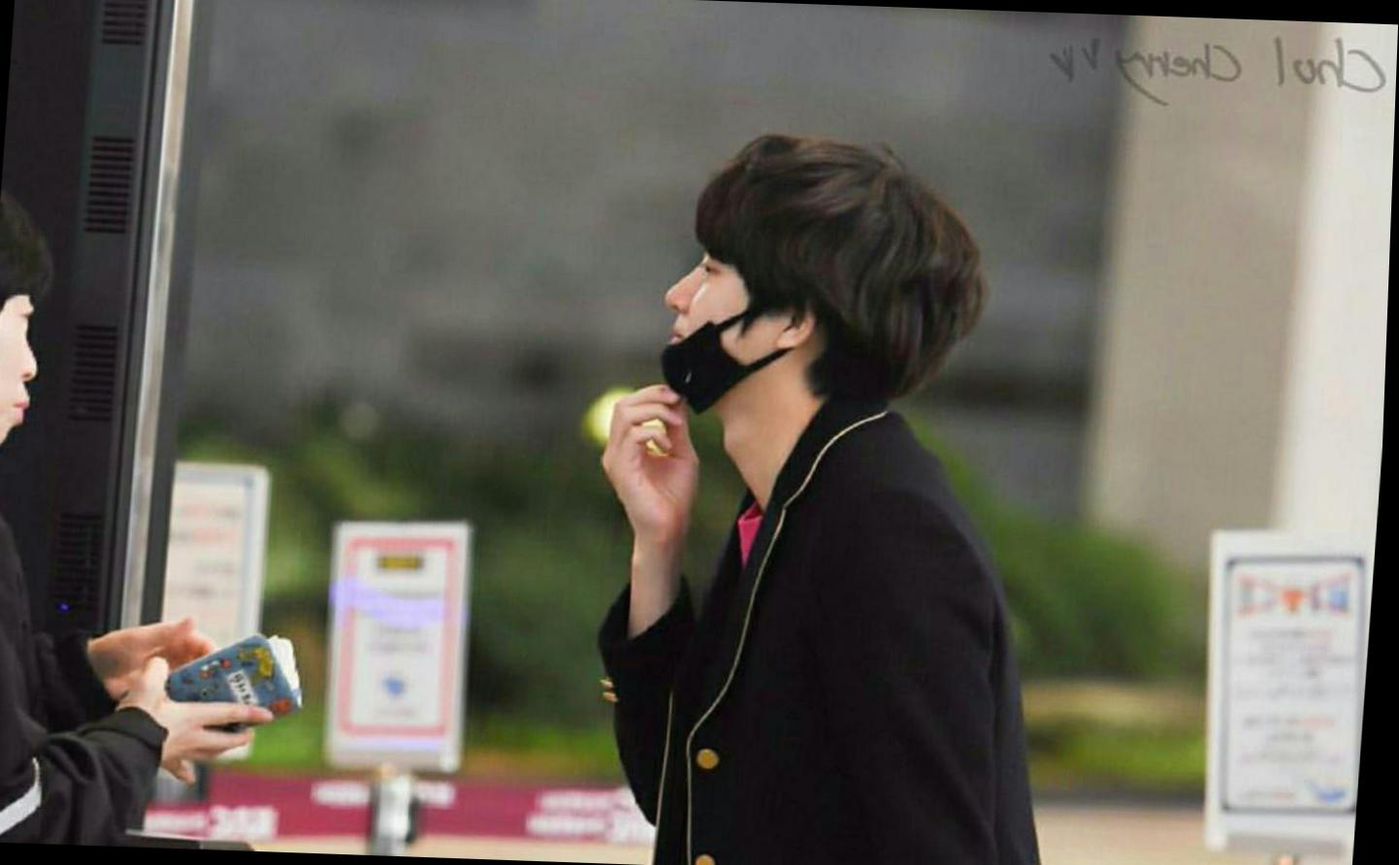NONE: (1, 301, 50, 451)
WRONG: (658, 215, 793, 414)
